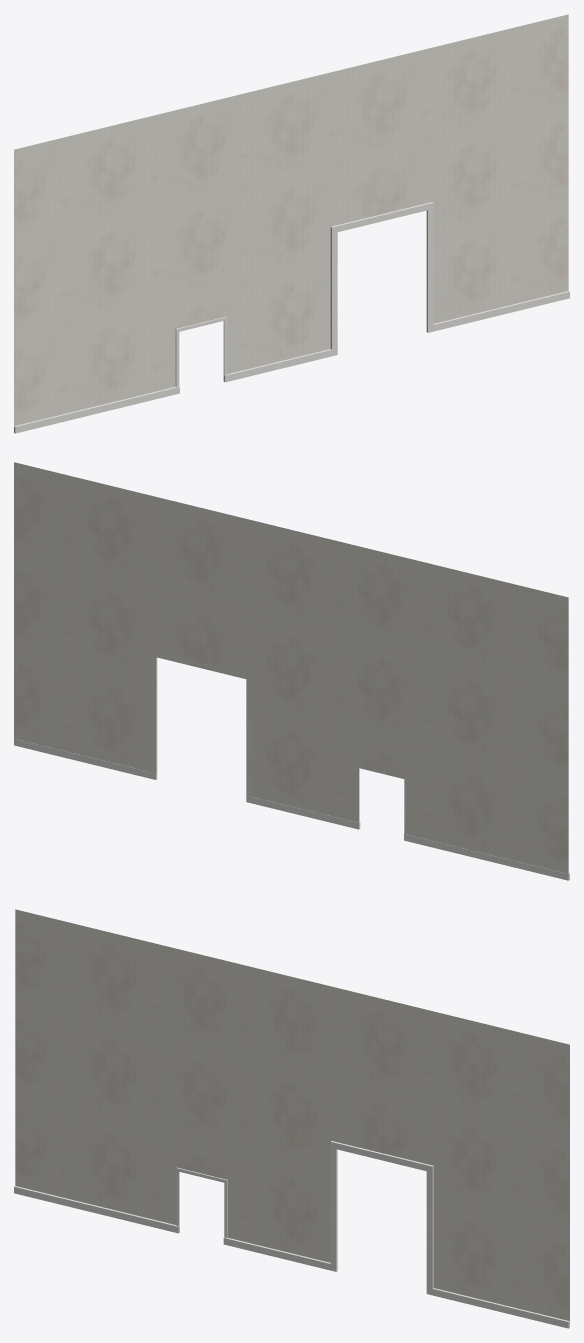
3 renders of one model, top to bottom at view 1: azimuth 30°, elevation 25°; view 2: azimuth 150°, elevation 25°; view 3: azimuth 330°, elevation 25°, orthographic.
Visible parts, largest first — view 1: jx_wm_12_6f15948a; view 2: jx_wm_12_6f15948a; view 3: jx_wm_12_6f15948a.
Boxes of the visible parts, x1,y1,x2,y2 form: jx_wm_12_6f15948a: (14,14,569,433); jx_wm_12_6f15948a: (14,462,569,880); jx_wm_12_6f15948a: (14,909,569,1328).
Bounding box in the file's own units: 12.3 × 6 × 0.05.
2 materials, 2 textured.
